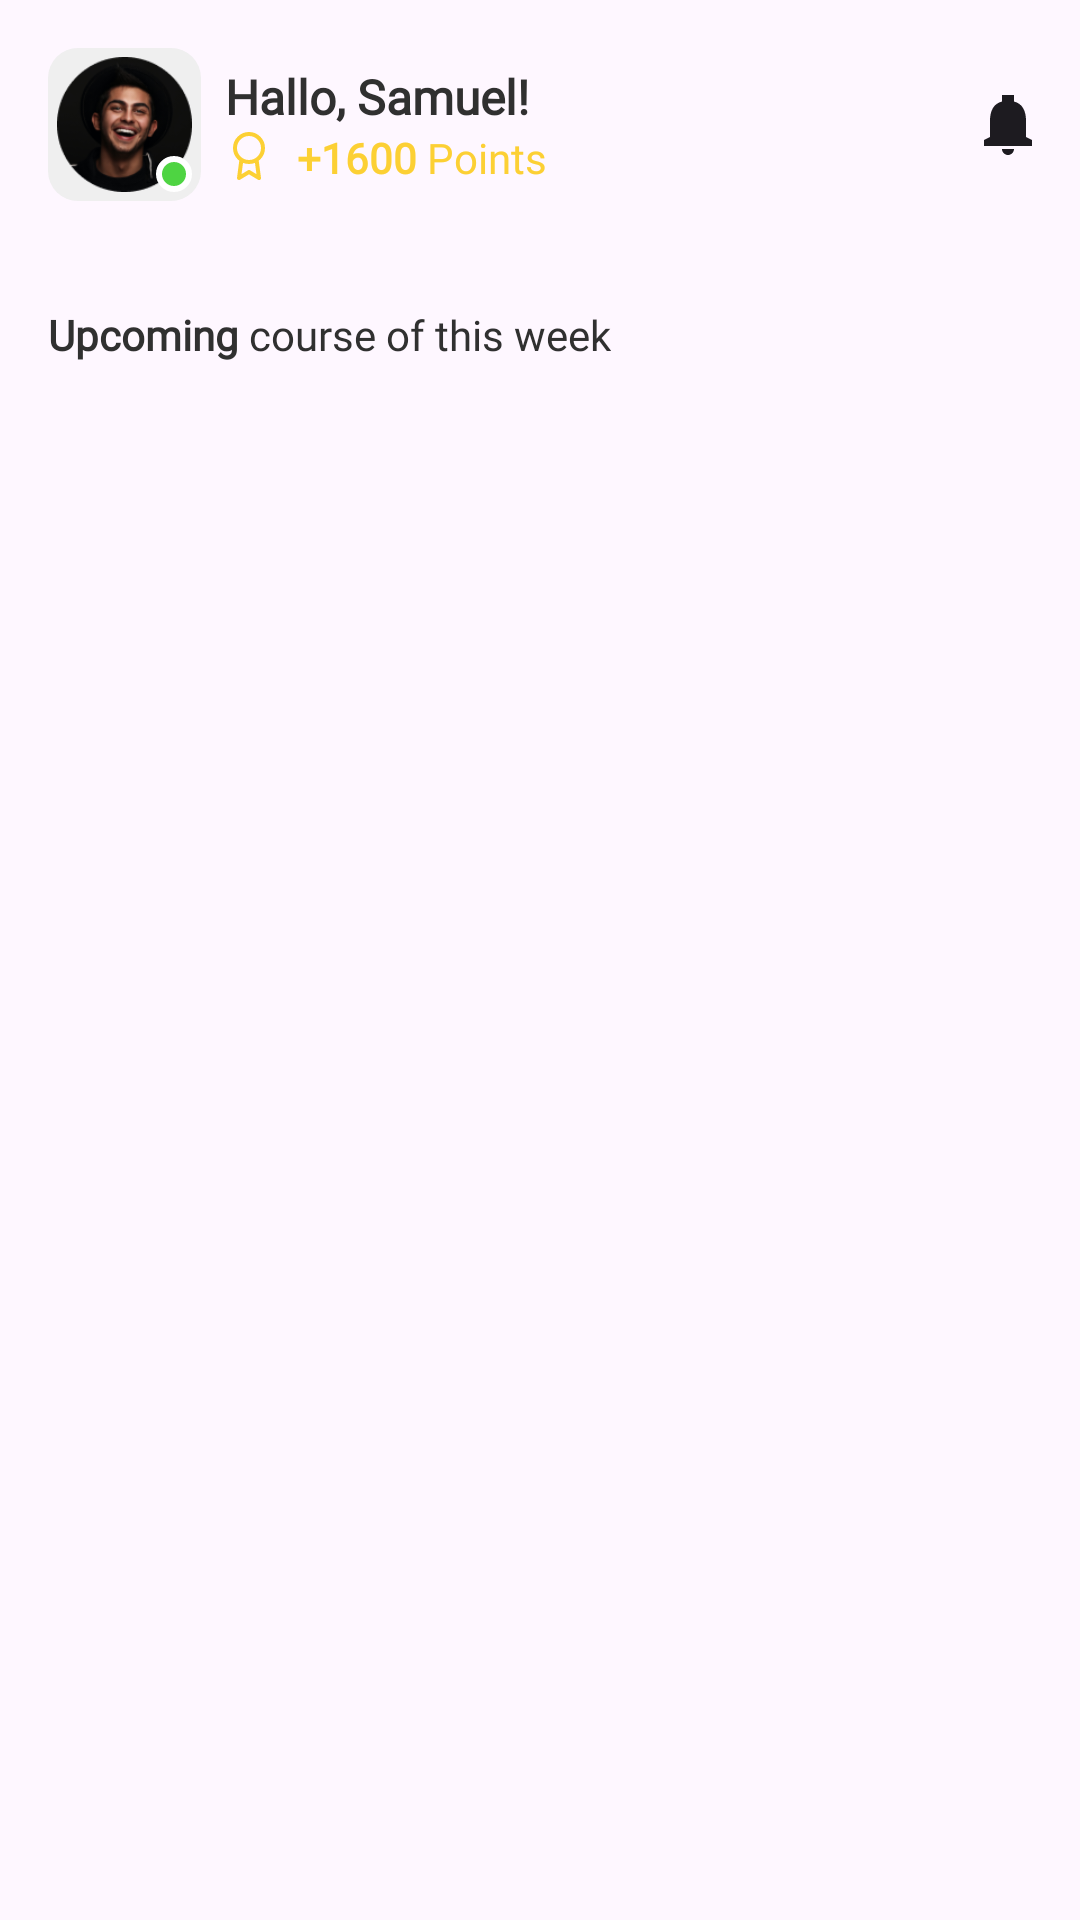

Screen size 1080 × 1920. Icon name, then its center in pixels as point (x, y):
award: point (249, 156)
notification: point (1008, 125)
